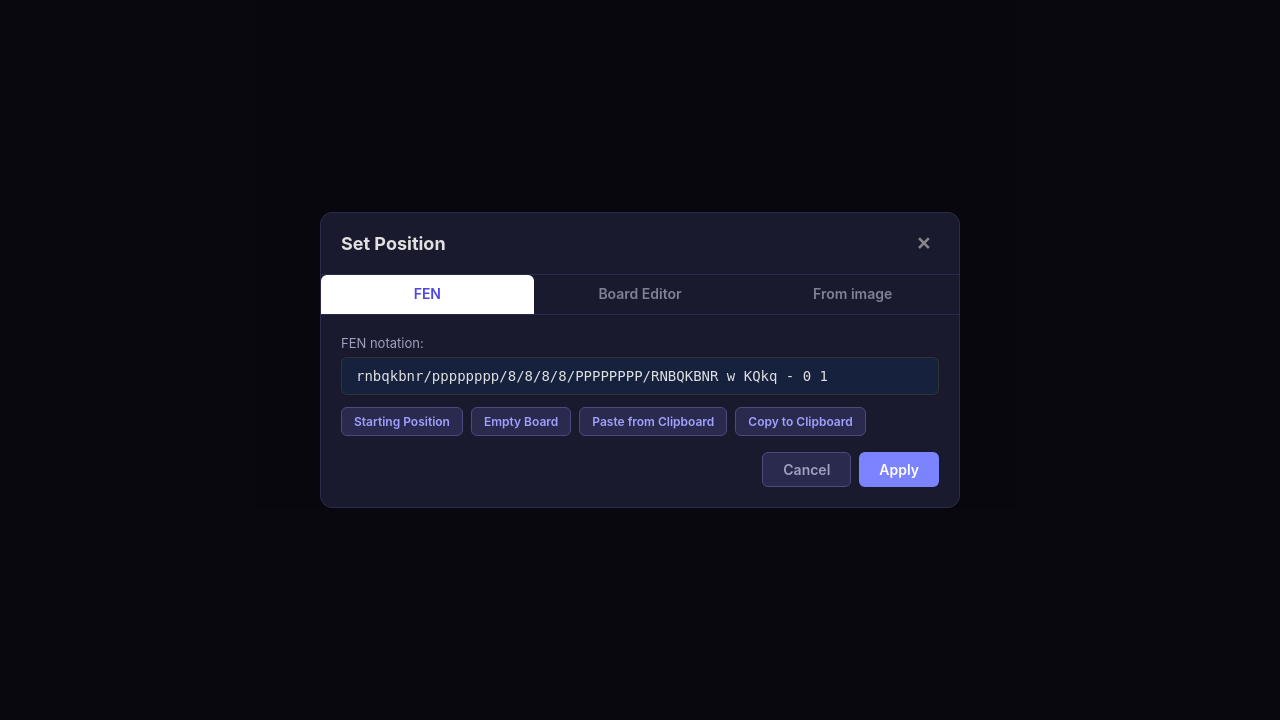
Test: <SetPositionModal> — KS-2220 Copy FEN to clipboard › успех: клик «Copy to Clipboard» вызывает writeText и показывает toast
This screenshot has width=1280, height=720.
What coordinates should you click on to do the following:
click the button with test id "set-position-copy-fen"
I would click on:
 (801, 422)
Its box is [735,407,866,436].
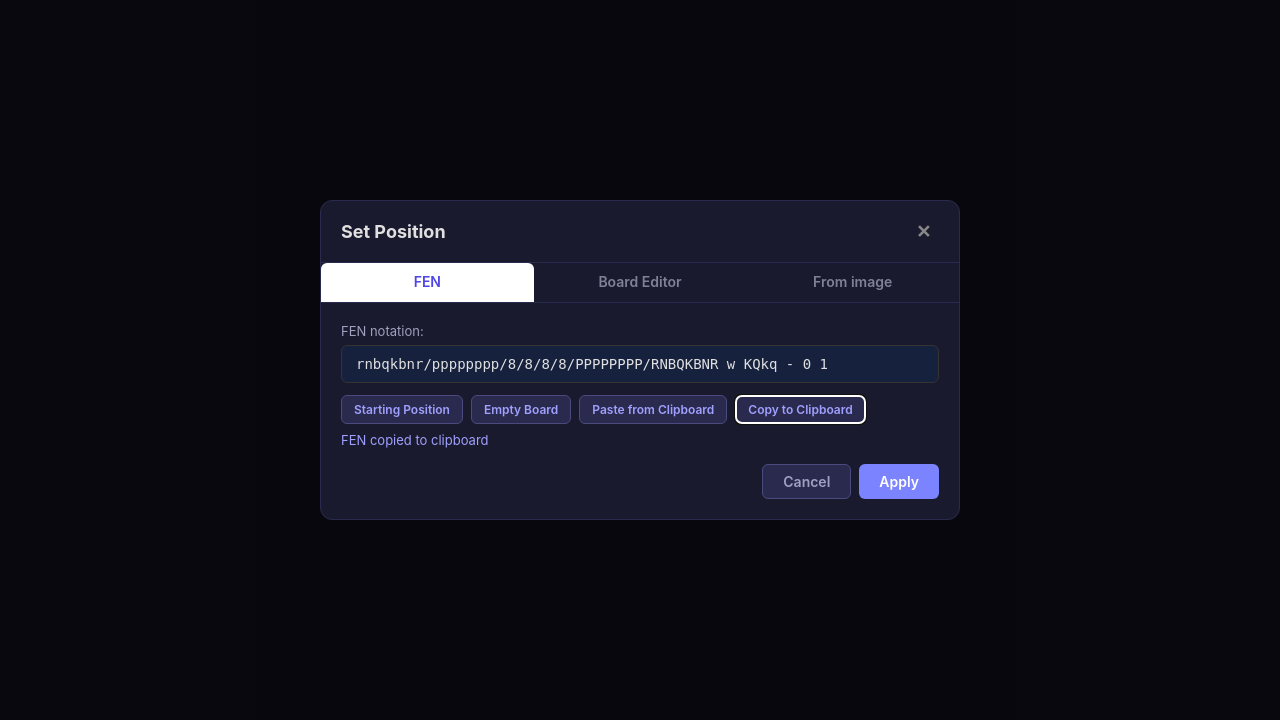
expect the message with test id "set-position-copy-fen-msg" shows "copied": met, box [341,432,488,448]
